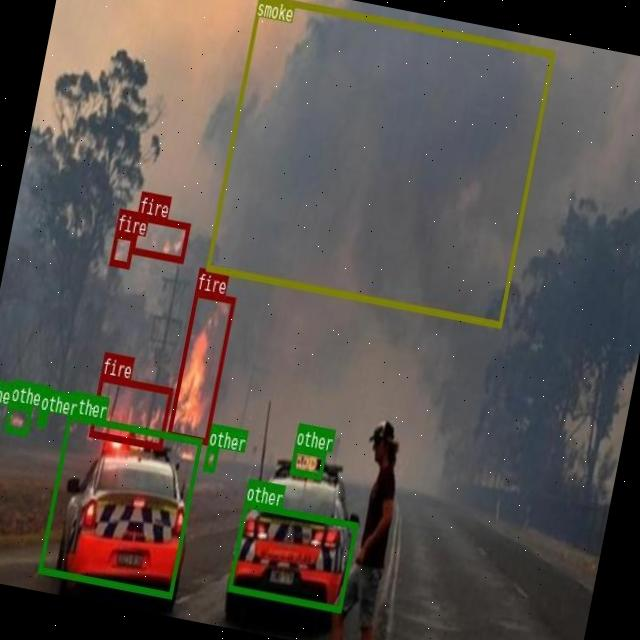fire: (168, 291, 235, 444), (89, 374, 172, 449), (130, 213, 190, 262), (108, 232, 134, 268)
smoke: (205, 0, 554, 326)
